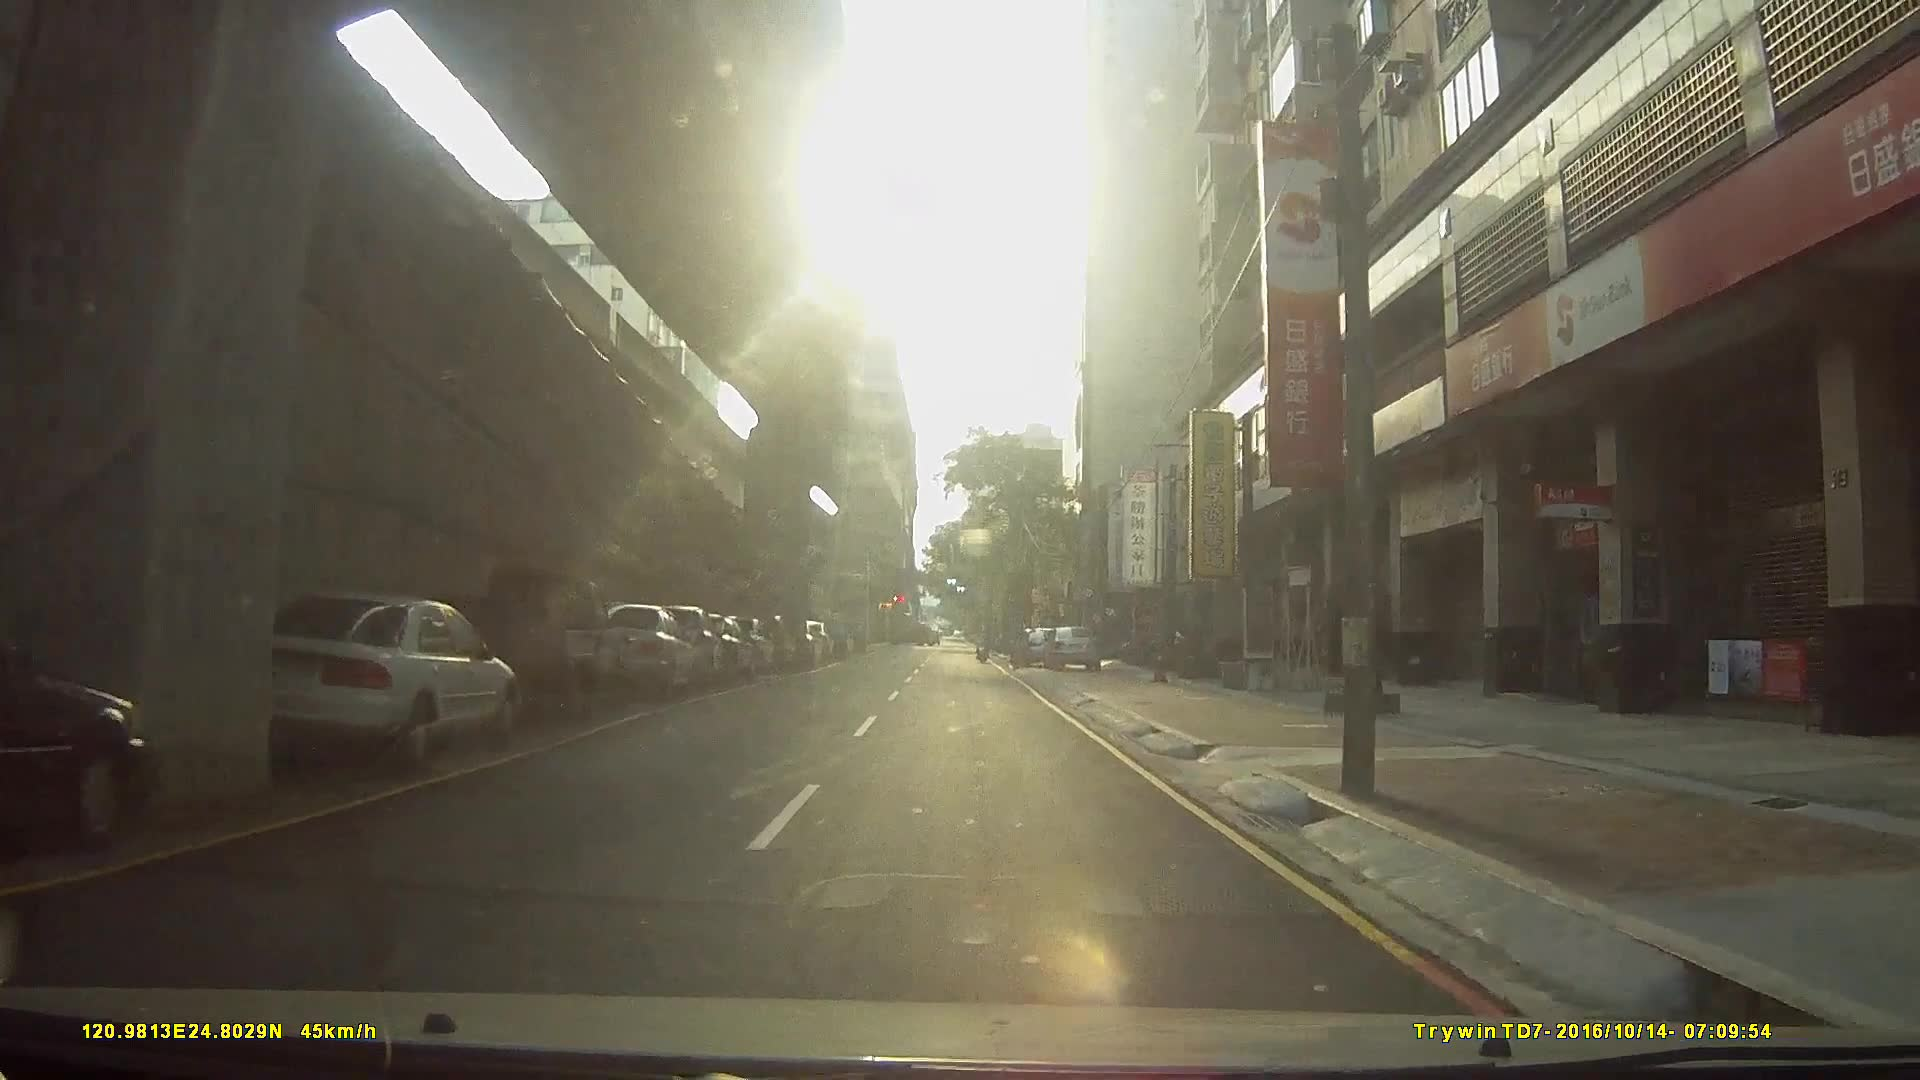vehicle: (241, 591, 516, 770), (0, 624, 152, 849), (421, 568, 622, 708), (566, 603, 699, 702), (659, 620, 794, 670), (1039, 624, 1102, 673)
